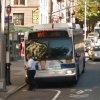Bus: (24, 24, 87, 84)
